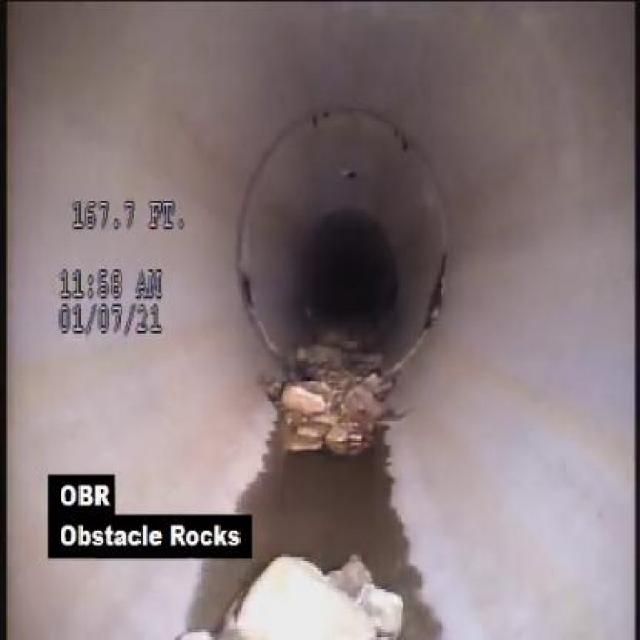Debris: (254, 350, 429, 476)
